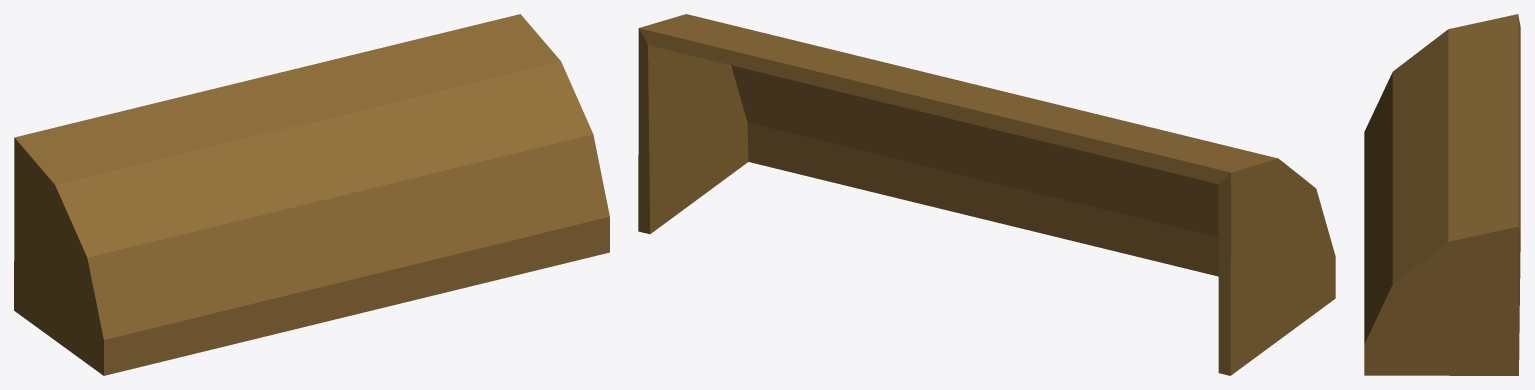
File: SM_Props_Sunshade_02.fbx
3 views of the same model, side by side, from view 1: azimuth 30°, elevation 25°; view 2: azimuth 150°, elevation 25°; view 3: azimuth 270°, elevation 25° (orthographic). The views are drawn at different scales.
Parts seen in each view (by area): view 1: SM_Props_Sunshade_02; view 2: SM_Props_Sunshade_02; view 3: SM_Props_Sunshade_02.
Boxes of the visible parts, x1=… form: SM_Props_Sunshade_02: x1=14, y1=14, x2=609, y2=375; SM_Props_Sunshade_02: x1=638, y1=14, x2=1335, y2=375; SM_Props_Sunshade_02: x1=1364, y1=14, x2=1520, y2=375.
Size of the model in its own units: 300 by 98.28 by 93.31.
